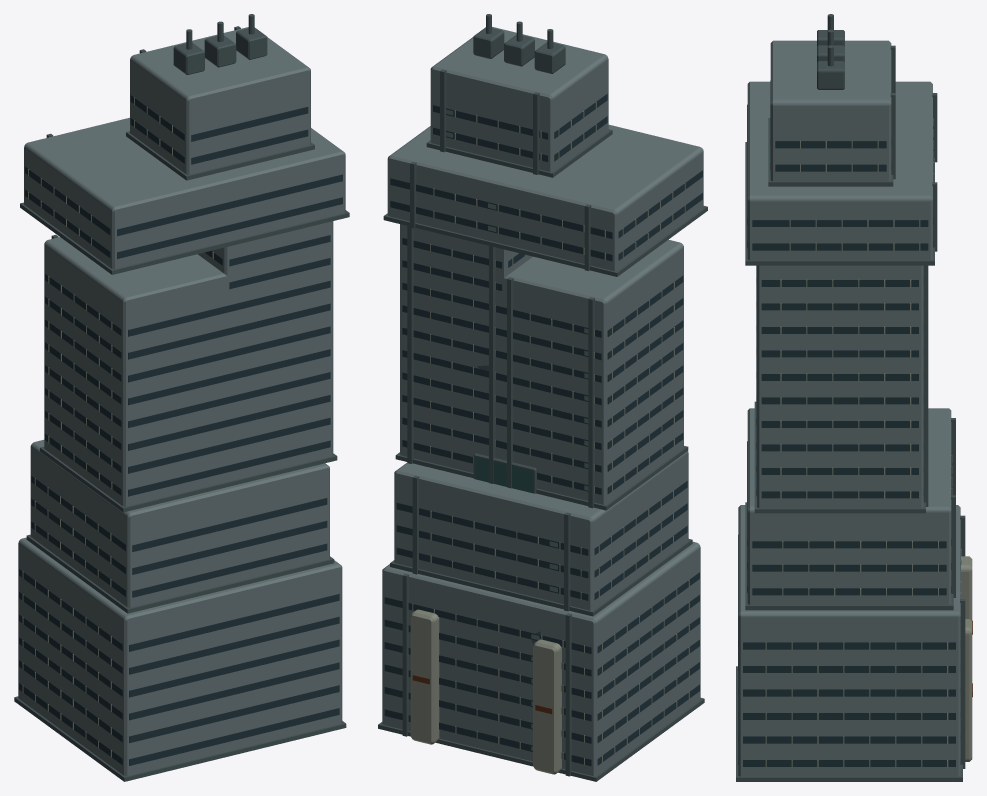
Rendered from megablock_twin.obj.
3 renders of one model, left to right at view 1: azimuth 30°, elevation 25°; view 2: azimuth 150°, elevation 25°; view 3: azimuth 270°, elevation 25°, orthographic. The views are drawn at different scales.
Visible parts, largest first — view 1: structural_mass, recessed_front, recessed_side, tier_lip, rooftop_equipment, window_separators; view 2: structural_mass, recessed_front, recessed_side, vertical_service_spines, tier_lip, podium_buttress, window_separators, rooftop_equipment, runtime_billboard, pale_window; view 3: structural_mass, recessed_side, tier_lip, vertical_service_spines, window_separators, podium_buttress, rooftop_equipment, recessed_front.
Boxes of the visible parts, x1,y1,x2,y2 form: structural_mass: (18, 27, 345, 775); recessed_front: (117, 106, 342, 765); recessed_side: (19, 95, 222, 765); tier_lip: (14, 131, 349, 781); rooftop_equipment: (173, 27, 267, 74); window_separators: (22, 97, 213, 757); structural_mass: (382, 27, 703, 776); recessed_front: (384, 105, 612, 766); recessed_side: (508, 93, 702, 765); vertical_service_spines: (402, 69, 594, 776); tier_lip: (378, 129, 707, 781); podium_buttress: (410, 609, 561, 774); window_separators: (412, 102, 689, 764); rooftop_equipment: (473, 27, 565, 73); runtime_billboard: (475, 457, 532, 493); pale_window: (446, 109, 588, 750); structural_mass: (738, 40, 960, 776); recessed_side: (743, 141, 955, 766); tier_lip: (736, 118, 962, 781); vertical_service_spines: (890, 45, 965, 768); window_separators: (765, 118, 961, 767); podium_buttress: (961, 556, 972, 761); rooftop_equipment: (817, 30, 844, 89); recessed_front: (738, 80, 960, 764).
Size of the model in its own units: 30.5 by 84.7 by 25.58.
